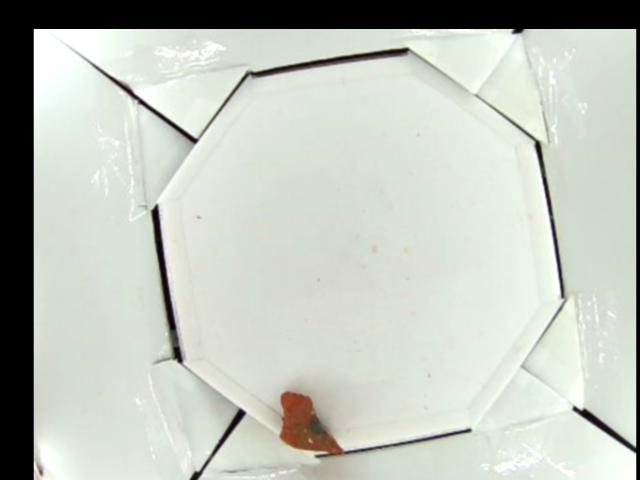Brisk: (277, 387, 343, 453)
